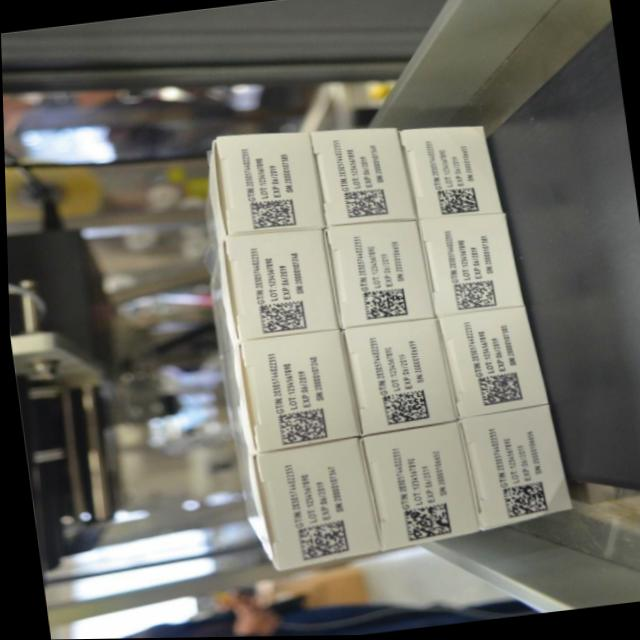datamatrix: (287, 516, 352, 565), (396, 499, 453, 545), (494, 479, 551, 523), (272, 407, 331, 448), (376, 390, 434, 428), (251, 298, 307, 336), (246, 197, 300, 235), (336, 186, 390, 224), (432, 183, 486, 221), (357, 284, 411, 322), (471, 372, 525, 409), (451, 276, 504, 313)
